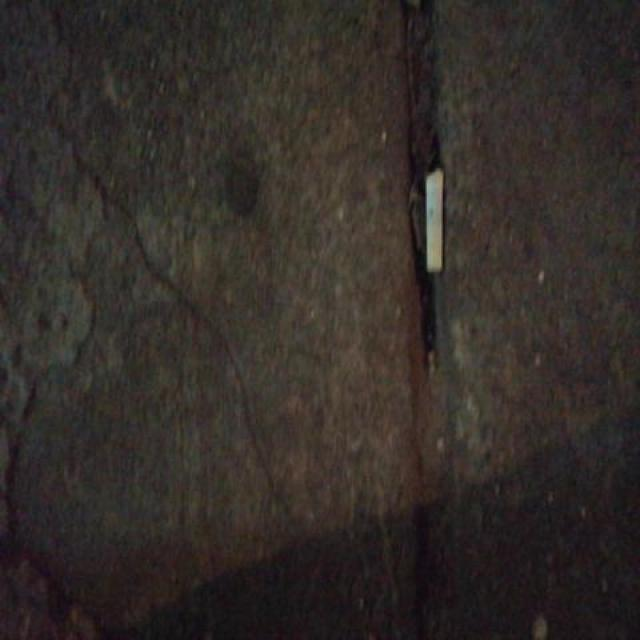non-organic waste: (423, 164, 448, 283)
